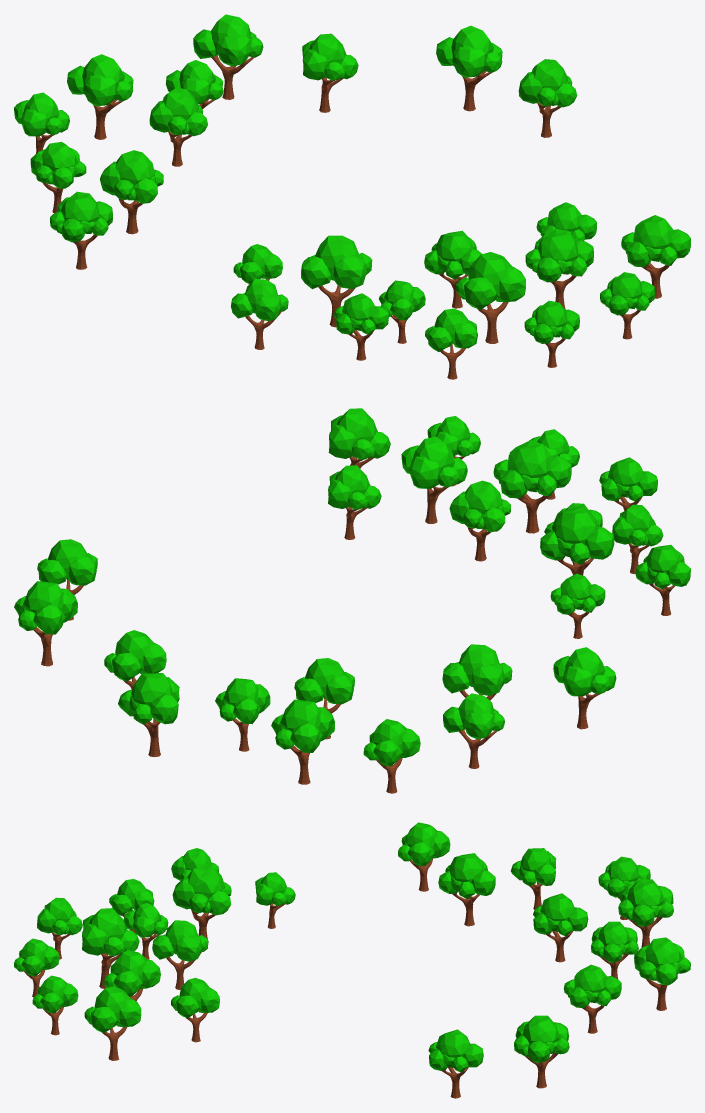
The model's file is Trees.fbx.
3 views of the same model, one above another, from view 1: azimuth 30°, elevation 25°; view 2: azimuth 150°, elevation 25°; view 3: azimuth 270°, elevation 25° (orthographic). The views are drawn at different scales.
Parts seen in each view (by area): view 1: Icosphere.001, Icosphere.023, Icosphere.012, Icosphere.009, Icosphere.008, Icosphere.015, Cube.023, Icosphere.021, Icosphere.020, Icosphere.014, Icosphere.017, Icosphere.011 (+12 smaller); view 2: Icosphere.001, Icosphere.023, Icosphere.008, Cube.023, Icosphere.015, Icosphere.012, Icosphere.004, Icosphere.021, Icosphere.020, Icosphere.009, Icosphere.022, Icosphere.017 (+11 smaller); view 3: Icosphere.023, Icosphere.001, Cube.023, Icosphere.015, Icosphere.012, Icosphere.021, Icosphere.009, Icosphere.014, Icosphere.017, Icosphere.011, Icosphere.004, Icosphere.020 (+12 smaller).
Boxes of the visible parts, left/top/right/bottom form: Icosphere.001: left=456, top=252, right=525, bottom=343; Icosphere.023: left=301, top=235, right=372, bottom=327; Icosphere.012: left=193, top=14, right=263, bottom=99; Icosphere.009: left=621, top=215, right=690, bottom=298; Icosphere.008: left=525, top=228, right=593, bottom=309; Icosphere.015: left=67, top=54, right=133, bottom=139; Cube.023: left=436, top=25, right=502, bottom=111; Icosphere.021: left=100, top=150, right=163, bottom=234; Icosphere.020: left=50, top=191, right=112, bottom=269; Icosphere.014: left=149, top=88, right=207, bottom=166; Icosphere.017: left=518, top=59, right=577, bottom=137; Icosphere.011: left=302, top=33, right=358, bottom=112; Icosphere.001: left=493, top=440, right=571, bottom=533; Icosphere.023: left=540, top=506, right=614, bottom=575; Icosphere.008: left=401, top=436, right=467, bottom=523; Cube.023: left=14, top=581, right=77, bottom=666; Icosphere.015: left=271, top=699, right=334, bottom=784; Icosphere.012: left=118, top=673, right=179, bottom=756; Icosphere.004: left=449, top=480, right=510, bottom=561; Icosphere.021: left=442, top=644, right=512, bottom=700; Icosphere.020: left=553, top=647, right=616, bottom=729; Icosphere.009: left=328, top=408, right=390, bottom=468; Icosphere.022: left=443, top=693, right=504, bottom=768; Icosphere.017: left=37, top=539, right=97, bottom=620; Icosphere.023: left=172, top=864, right=231, bottom=942; Icosphere.001: left=82, top=908, right=139, bottom=988; Cube.023: left=514, top=1015, right=569, bottom=1088; Icosphere.015: left=618, top=879, right=673, bottom=947; Icosphere.012: left=634, top=937, right=690, bottom=1010; Icosphere.021: left=438, top=853, right=495, bottom=926; Icosphere.009: left=84, top=986, right=141, bottom=1060; Icosphere.014: left=533, top=893, right=588, bottom=962; Icosphere.017: left=428, top=1029, right=483, bottom=1098; Icosphere.011: left=563, top=964, right=621, bottom=1033; Icosphere.004: left=152, top=920, right=208, bottom=989; Icosphere.020: left=398, top=822, right=450, bottom=891.
Size of the model in its own units: 40101 by 6479 by 49645.
